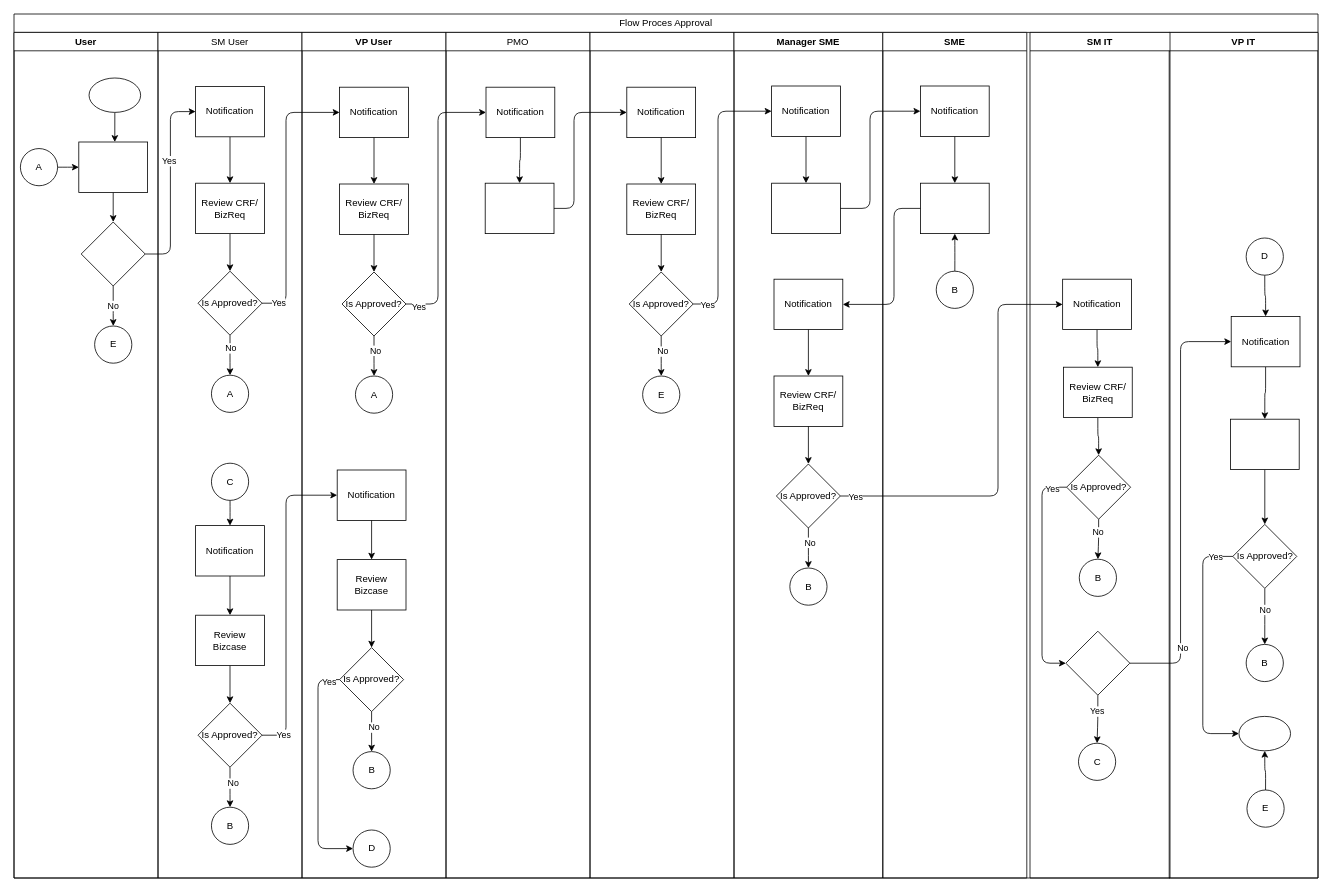
Some shapes in this 1332 by 892 pixel diagram are drawn without their labels. The shapes that lost their labels are listed below. From the top down, each one's centre as x and y in pixels, then its label:
the point at 114,94: Start
the point at 113,166: Fill/Edit Document BizReq / CRF
the point at 519,208: Decide project Scale
the point at 805,208: Select SME
the point at 954,208: Fill/Edit Solution
the point at 112,253: Is Submit?
the point at 661,455: SM PMO
the point at 1264,444: Review
the point at 1097,662: Is Bizreq?
the point at 1264,733: End
